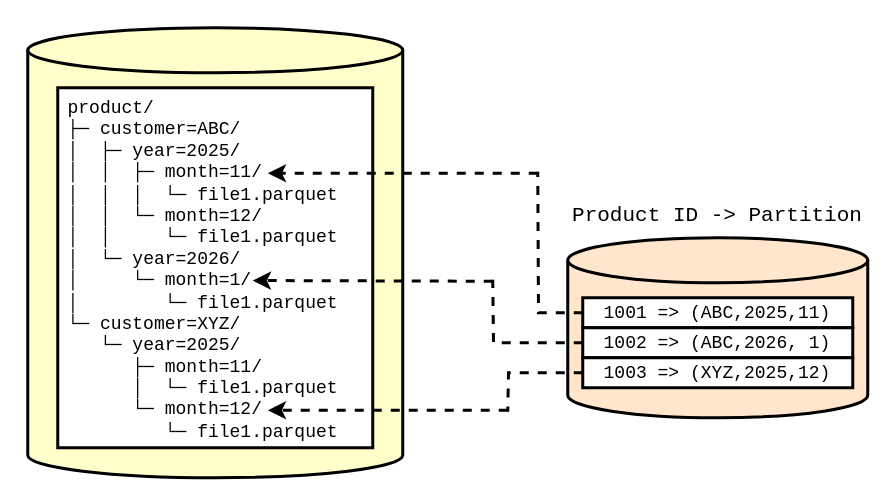
This 894x504 diagram has some shape labels left out. The shapes that lost their labels are listed below. From the top down, each one's box as (x1, y1, x2, y2) in pixels, then its label:
(26, 26, 404, 478): S3
(566, 236, 868, 418): RocksDB
